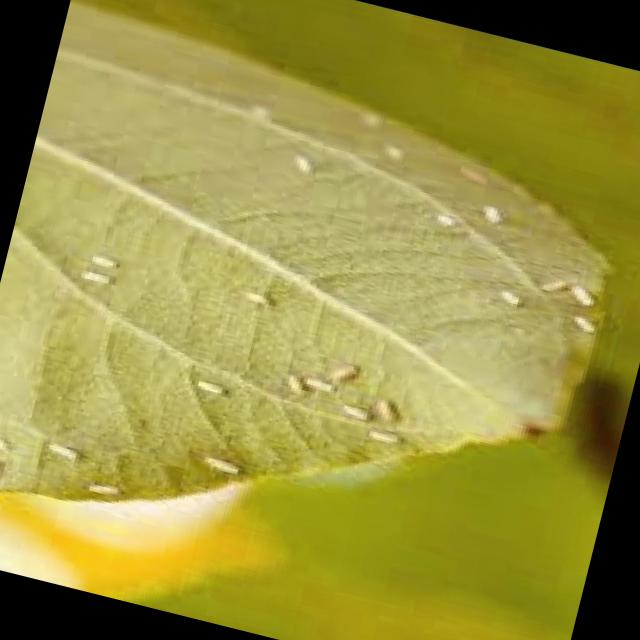aphid: (359, 384, 422, 428), (188, 436, 250, 479), (353, 412, 414, 453), (314, 346, 370, 389), (29, 428, 90, 467), (444, 152, 501, 192), (178, 364, 236, 402), (231, 88, 283, 130), (74, 465, 131, 503), (326, 389, 381, 428), (223, 272, 277, 311), (276, 140, 324, 181), (481, 277, 532, 315), (466, 192, 517, 230), (65, 256, 118, 292), (557, 272, 605, 311), (291, 363, 341, 398), (76, 240, 126, 274), (418, 200, 468, 234), (366, 132, 412, 168), (558, 302, 605, 336), (269, 362, 312, 397), (528, 264, 571, 298), (343, 100, 389, 131), (0, 443, 21, 485), (0, 421, 23, 454)
